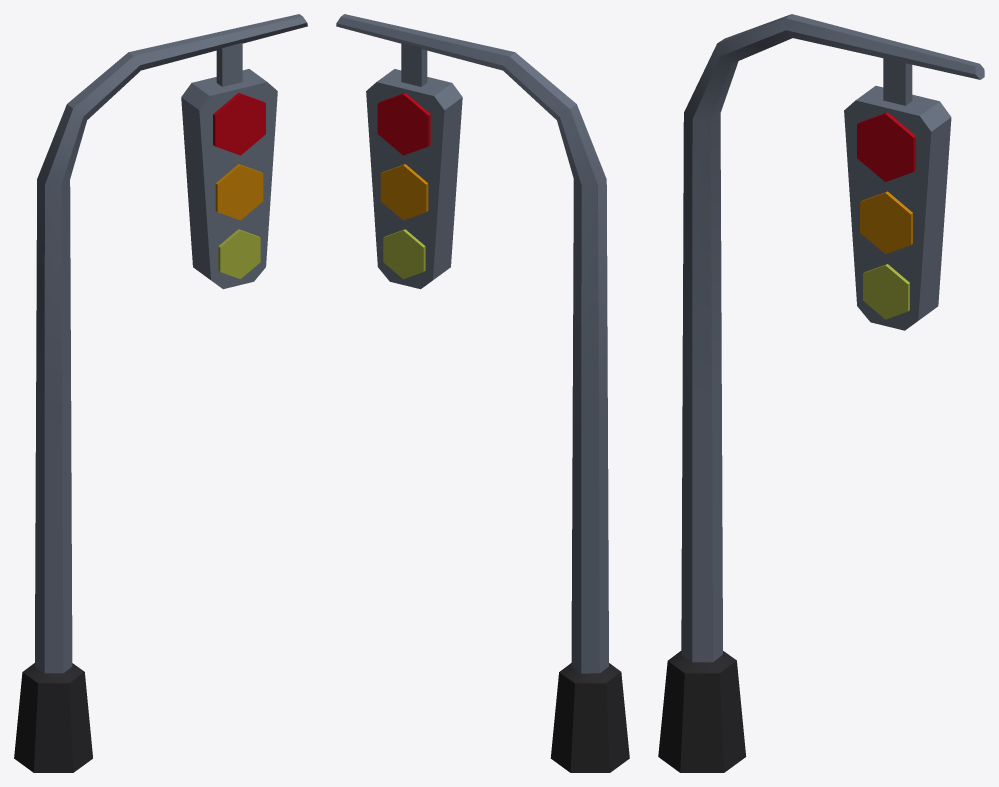
File: Traffic Light 1 Fractured.fbx
The picture shows the model from 3 angles, left to right: view 1: azimuth 30°, elevation 25°; view 2: azimuth 150°, elevation 25°; view 3: azimuth 330°, elevation 25°; orthographic projection. The views are drawn at different scales.
Parts seen in each view (by area): view 1: Traffic_Light_01_Breaking.002, Traffic_Light_01_Breaking.001, Traffic_Light_01_Breaking; view 2: Traffic_Light_01_Breaking.002, Traffic_Light_01_Breaking.001, Traffic_Light_01_Breaking; view 3: Traffic_Light_01_Breaking.002, Traffic_Light_01_Breaking.001, Traffic_Light_01_Breaking.
Boxes of the visible parts, box(x1,y1,x2,y2) form: Traffic_Light_01_Breaking.002: box(181, 14, 307, 289); Traffic_Light_01_Breaking.001: box(14, 410, 92, 772); Traffic_Light_01_Breaking: box(36, 35, 207, 424); Traffic_Light_01_Breaking.002: box(336, 14, 462, 289); Traffic_Light_01_Breaking.001: box(550, 410, 629, 772); Traffic_Light_01_Breaking: box(436, 35, 607, 424); Traffic_Light_01_Breaking.002: box(844, 36, 984, 330); Traffic_Light_01_Breaking.001: box(658, 369, 746, 772); Traffic_Light_01_Breaking: box(682, 14, 873, 393).
Bounding box in the file's own units: 88.49 × 205 × 21.5.
